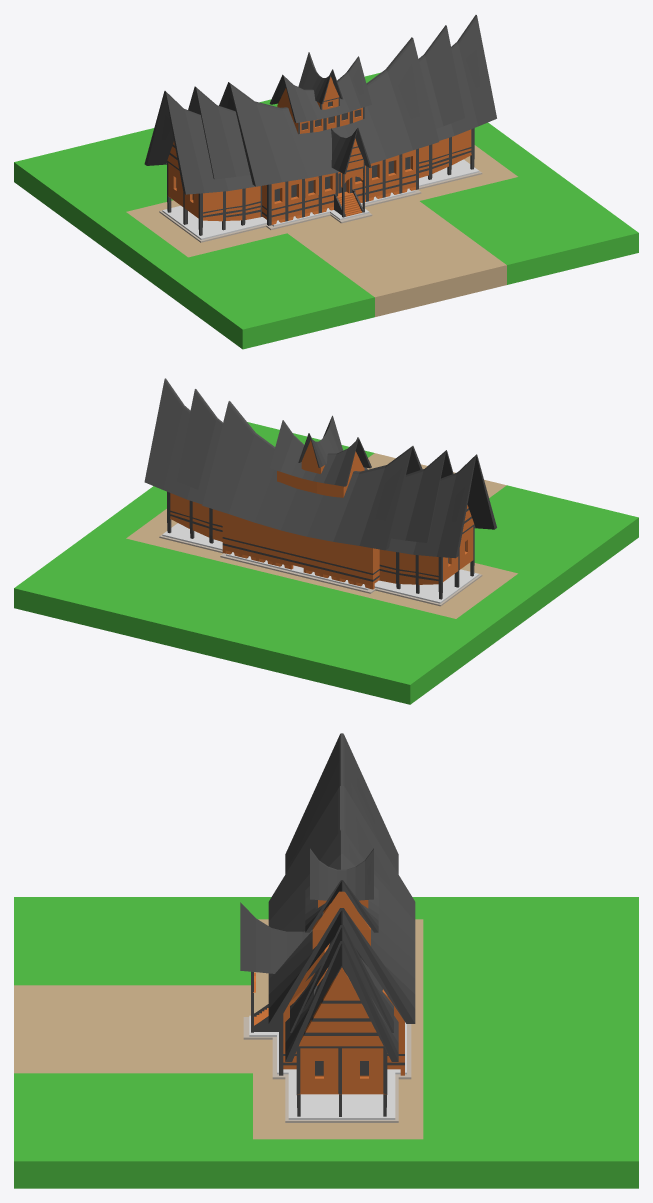
The model's file is RumahGadang Minangkabau.fbx.
3 views of the same model, one above another, from view 1: azimuth 30°, elevation 25°; view 2: azimuth 150°, elevation 25°; view 3: azimuth 270°, elevation 25° (orthographic). The views are drawn at different scales.
Parts seen in each view (by area): view 1: Cube.088, Cube.101, Cube.099, Cube.100, Cube.096, Cube.095, Cube.098, Cube.086, Cube.087, Cube.094, Cube.092, Cube.097 (+2 smaller); view 2: Cube.088, Cube.101, Cube.099, Cube.100, Cube.096, Cube.095, Cube.098, Cube.086, Cube.087, Cube.094, Cube.097; view 3: Cube.088, Cube.101, Cube.095, Cube.099, Cube.100, Cube.086, Cube.092, Cube.098, Cube.097, Cube.096, Cube.087, Cube.094.
Part boxes in pixels (left/top/right/bottom): Cube.088: left=14, top=72, right=638, bottom=349; Cube.101: left=219, top=37, right=439, bottom=186; Cube.099: left=144, top=15, right=496, bottom=194; Cube.100: left=188, top=25, right=465, bottom=179; Cube.096: left=262, top=148, right=418, bottom=225; Cube.095: left=167, top=128, right=474, bottom=235; Cube.098: left=269, top=56, right=371, bottom=122; Cube.086: left=162, top=159, right=479, bottom=239; Cube.087: left=159, top=161, right=482, bottom=242; Cube.094: left=277, top=88, right=364, bottom=134; Cube.092: left=331, top=128, right=371, bottom=174; Cube.097: left=298, top=52, right=342, bottom=104; Cube.088: left=14, top=422, right=638, bottom=704; Cube.101: left=202, top=401, right=422, bottom=550; Cube.099: left=144, top=378, right=496, bottom=558; Cube.100: left=176, top=389, right=453, bottom=542; Cube.096: left=222, top=512, right=379, bottom=589; Cube.095: left=167, top=491, right=474, bottom=599; Cube.098: left=269, top=420, right=371, bottom=486; Cube.086: left=162, top=523, right=479, bottom=603; Cube.087: left=159, top=524, right=482, bottom=606; Cube.094: left=277, top=451, right=364, bottom=497; Cube.097: left=298, top=415, right=343, bottom=467; Cube.088: left=14, top=897, right=638, bottom=1188; Cube.101: left=268, top=786, right=415, bottom=1023; Cube.095: left=296, top=967, right=387, bottom=1116; Cube.099: left=285, top=733, right=398, bottom=1061; Cube.100: left=290, top=758, right=393, bottom=1032; Cube.086: left=249, top=1015, right=406, bottom=1119; Cube.092: left=240, top=902, right=312, bottom=973; Cube.098: left=305, top=829, right=378, bottom=932; Cube.097: left=310, top=848, right=373, bottom=900; Cube.096: left=279, top=943, right=404, bottom=1075; Cube.087: left=243, top=1017, right=411, bottom=1122; Cube.094: left=312, top=891, right=370, bottom=949.
Bounding box in the file's own units: 527 × 204 × 527.
